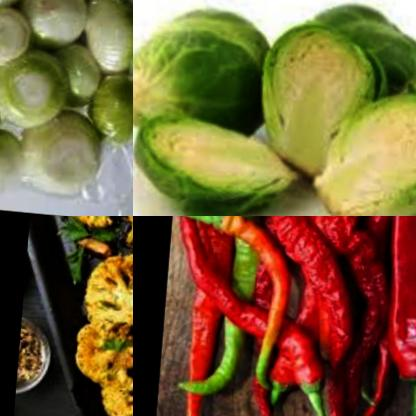brus capusta: (140, 84, 296, 216), (268, 0, 378, 184), (133, 0, 271, 133), (317, 80, 416, 216), (305, 0, 416, 91)
cayliflower: (69, 216, 133, 416)
hot pepper: (162, 216, 352, 416), (243, 216, 362, 393), (193, 216, 316, 387), (188, 216, 279, 405), (317, 216, 402, 416), (166, 216, 232, 410), (380, 216, 416, 374)
onion: (0, 0, 133, 190)
